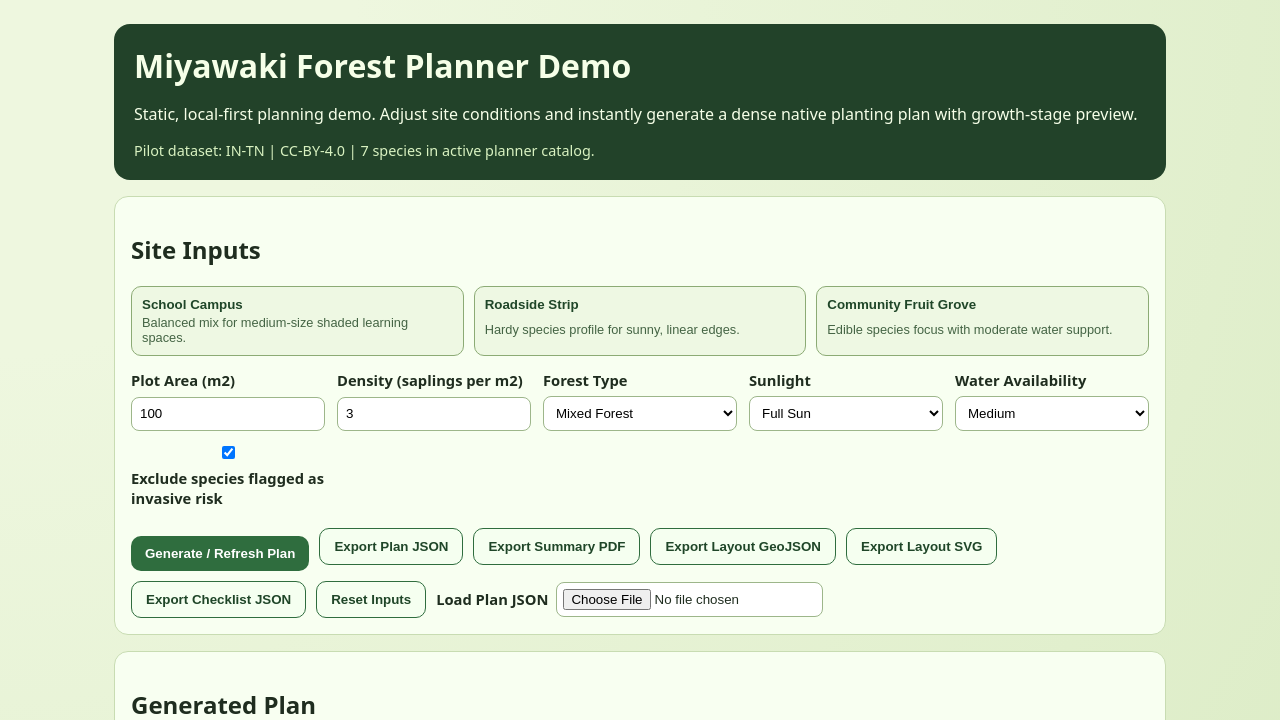
App › applies a scenario preset and shows feedback
Step 1. Click the button "Roadside Strip" → (640, 321), box [474,286,806,356]
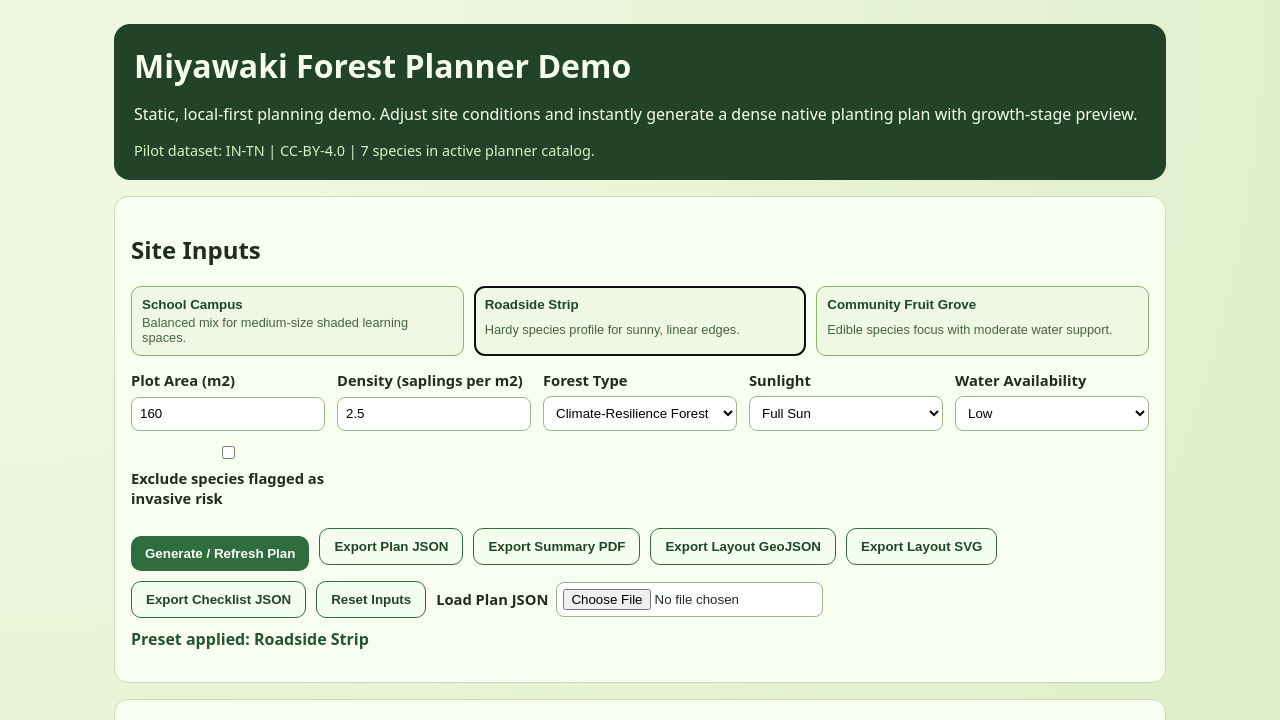
expect the text "Preset applied: Roadside Strip" is shown: met, box [131,628,369,650]
